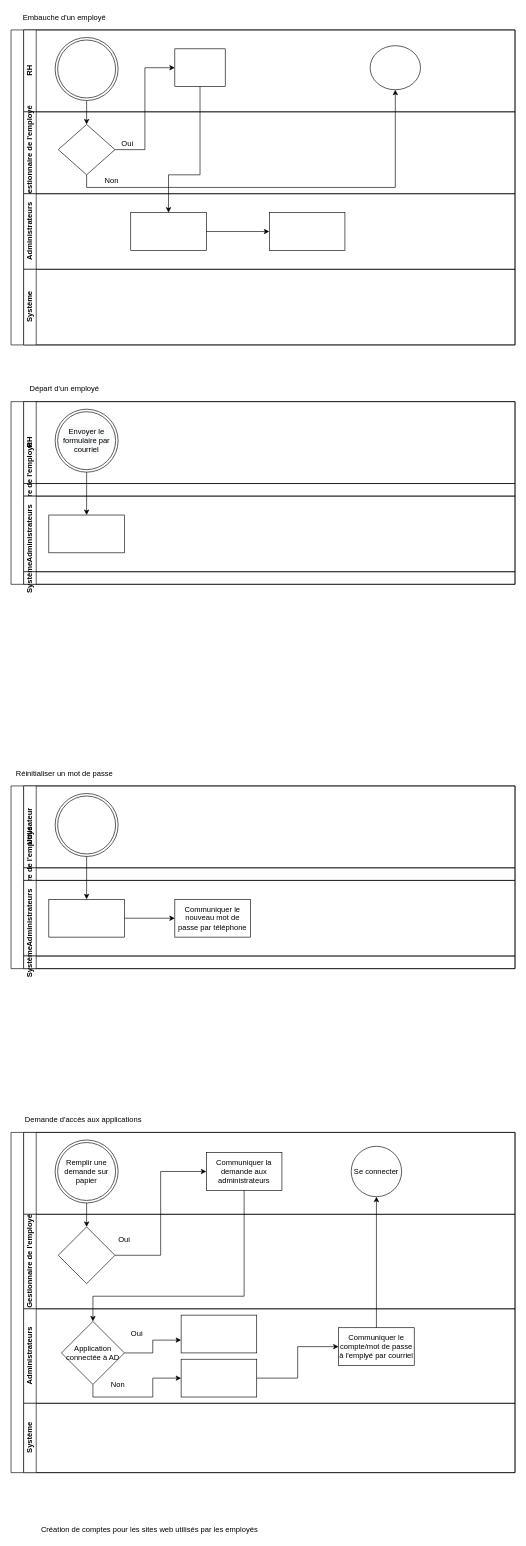
The diagram is 526 pixels wide and 1546 high, and some of its shapes have lost their labels. Here are the shapes that lost their labels. From the top down, the centre of each, then its label:
[86,68]: Envoyer le formulaire d'approbation
[199,67]: Envoyer le formulaire par courriel aux administrateurs
[86,149]: Approuver le formulaire
[168,231]: Créer les comptes
[307,231]: Donner accès aux serveurs de fichiers
[86,533]: Désactiver le compte
[86,824]: Appeler les admin
[86,918]: Réinitialiser le mot de passe
[86,1255]: Approuver la demande
[218,1333]: Ajouter le compte à un groupe ayant accès à l'app
[218,1378]: Créer le compte
